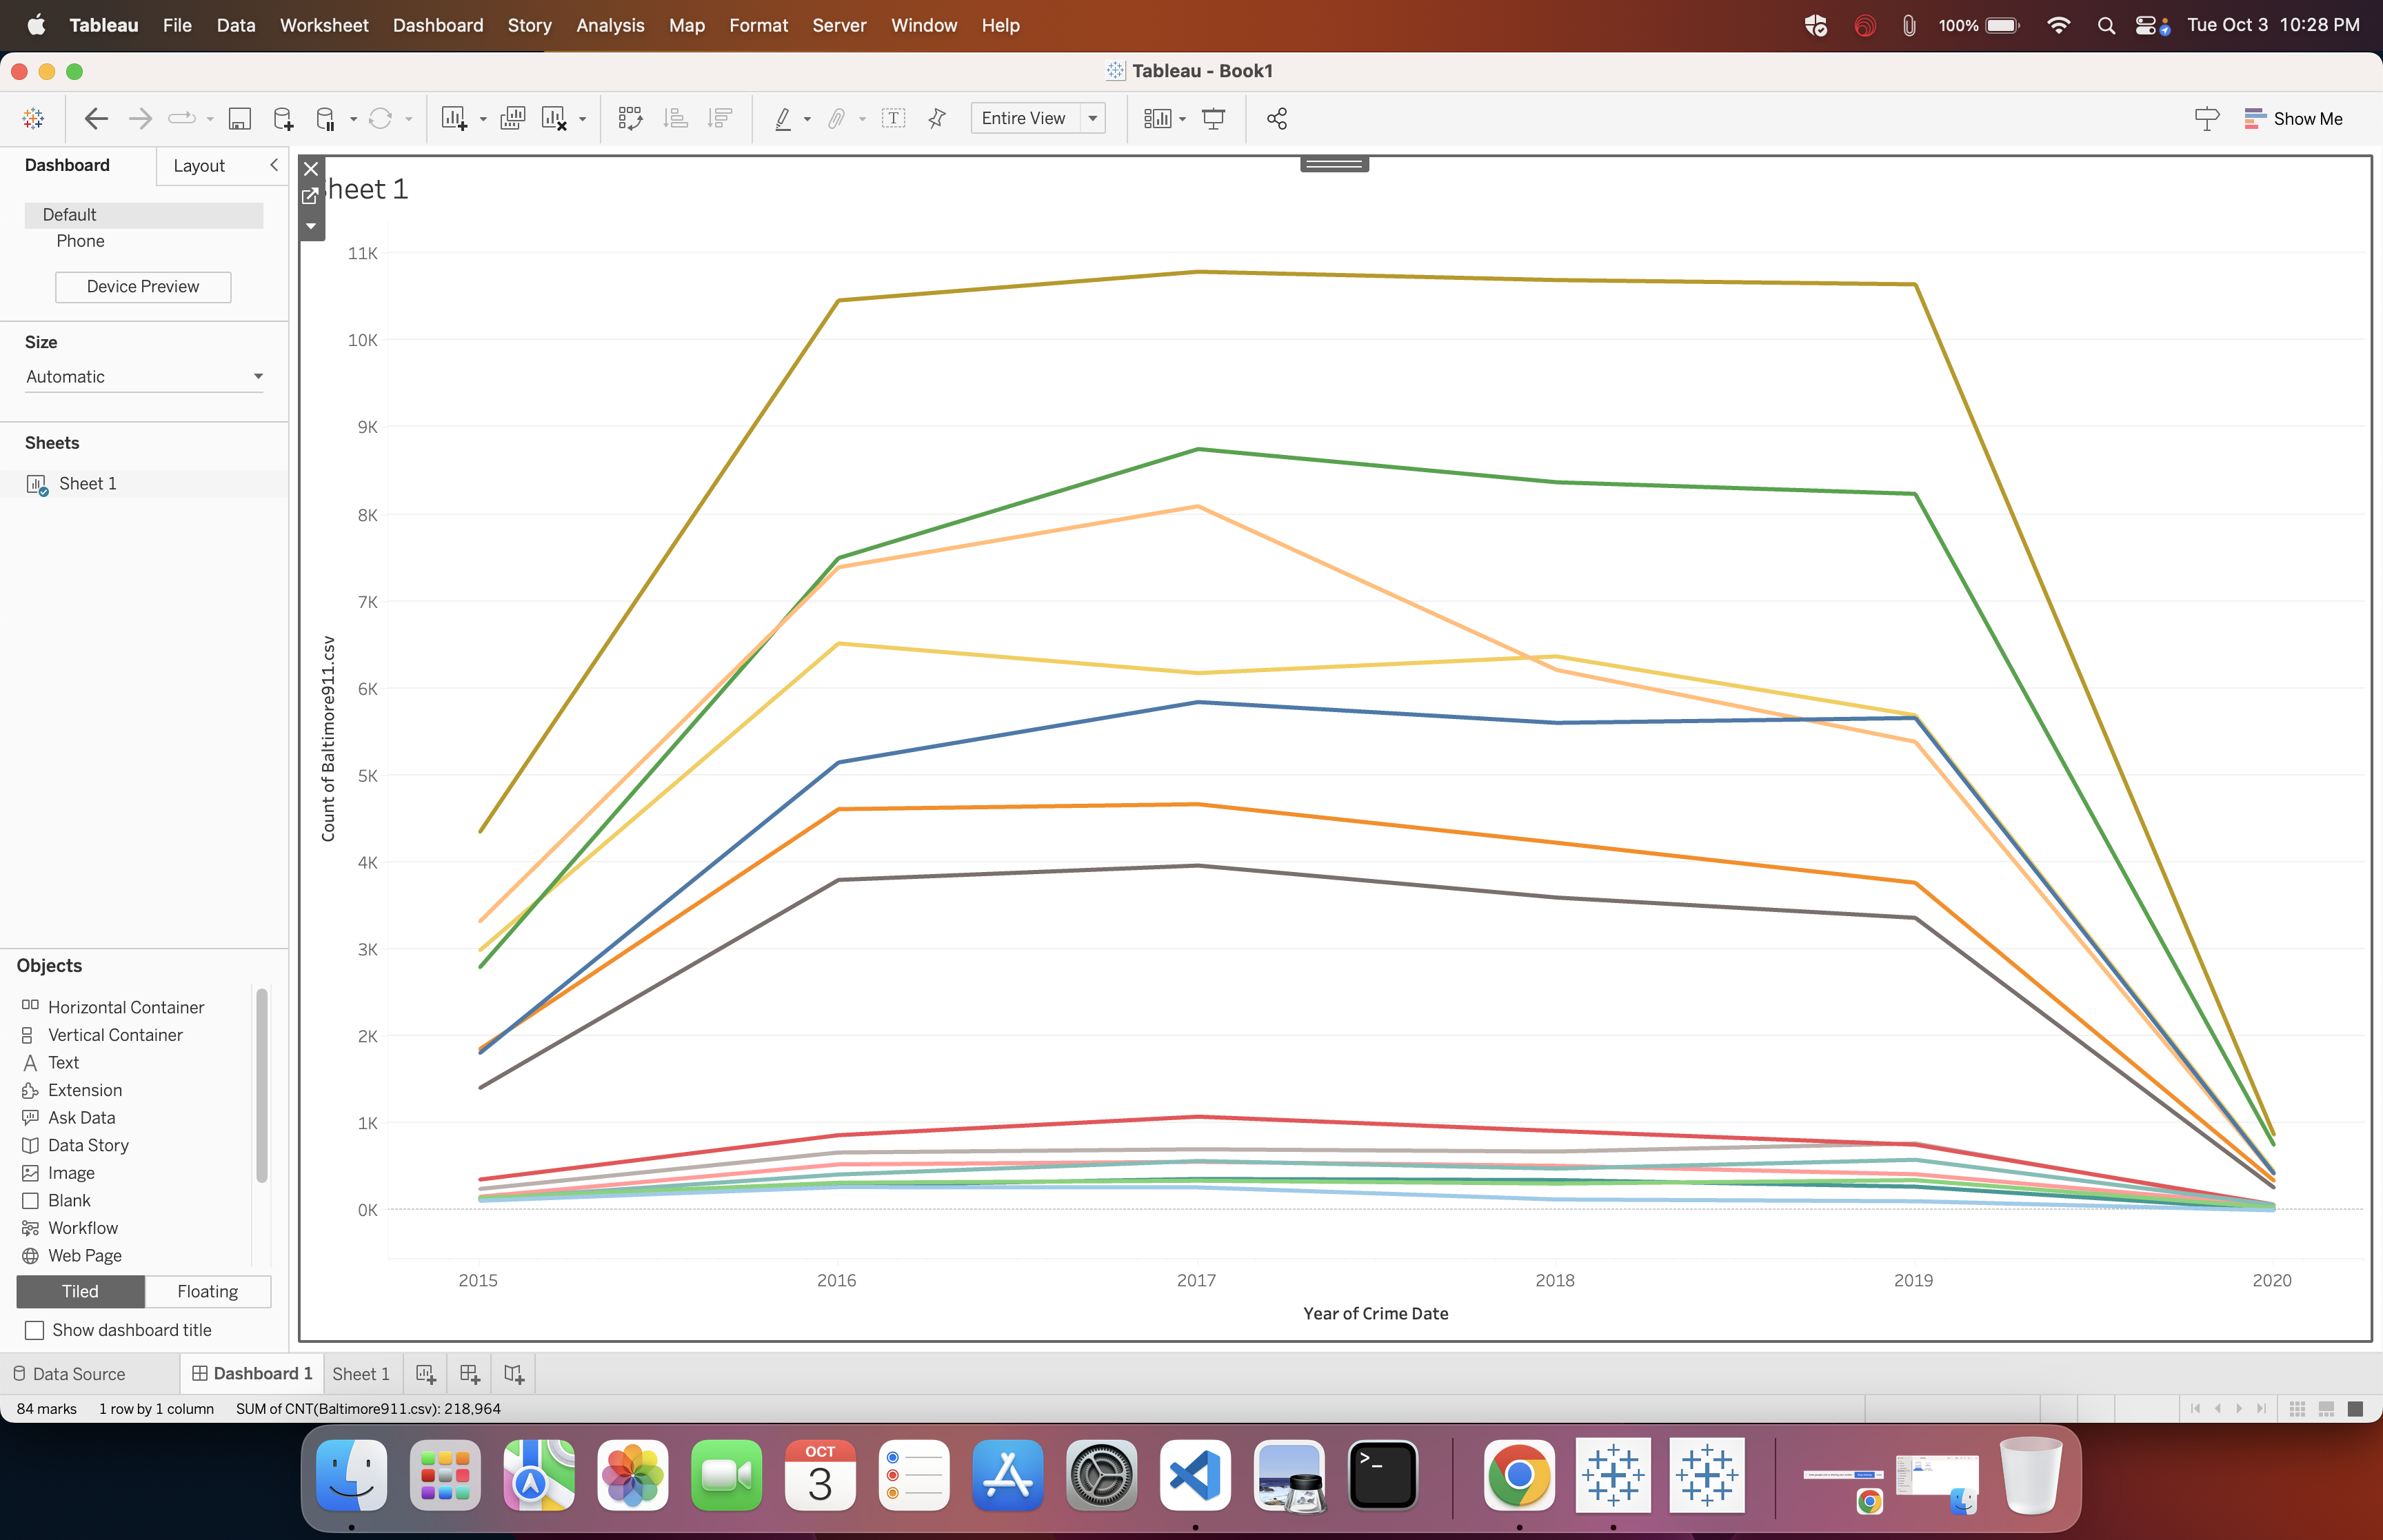

This screenshot's page, from the dashboard's own definition file:
{"tool":"tableau","page":{"name":"Dashboard 1","canvas":[1000,1000],"units":"permille","ordinal":0},"visuals":[{"type":"worksheet","title":"Sheet 1","mark":"Circle","rows":["Baltimore911.csv_D21EA5A1DF394CF2B379596E421D5C13"],"cols":["CrimeDate"],"box":[5.3,9.2,989.5,981.7]}]}

Visuals, with their boxes on the dashboard's canvas, which has no fixed pixel size, in thousandths of its width and height (x1, y1, x2, y2). These are canvas units, not pixel positions in the 2383x1540 screenshot, which may show the page scaled, cropped or inside an application window:
"Sheet 1" worksheet (Circle marks): box(5, 9, 995, 991)
